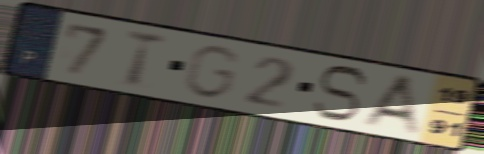2: (241, 56, 298, 112)
7: (62, 21, 112, 77)
A: (357, 72, 425, 140)
G: (179, 43, 244, 101)
S: (309, 64, 371, 123)
T: (122, 27, 172, 91)
